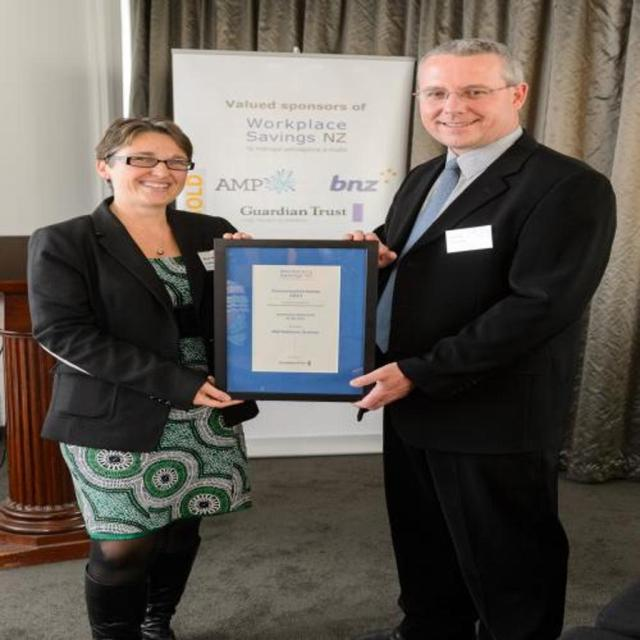Face: (421, 52, 510, 151), (96, 135, 190, 208)
